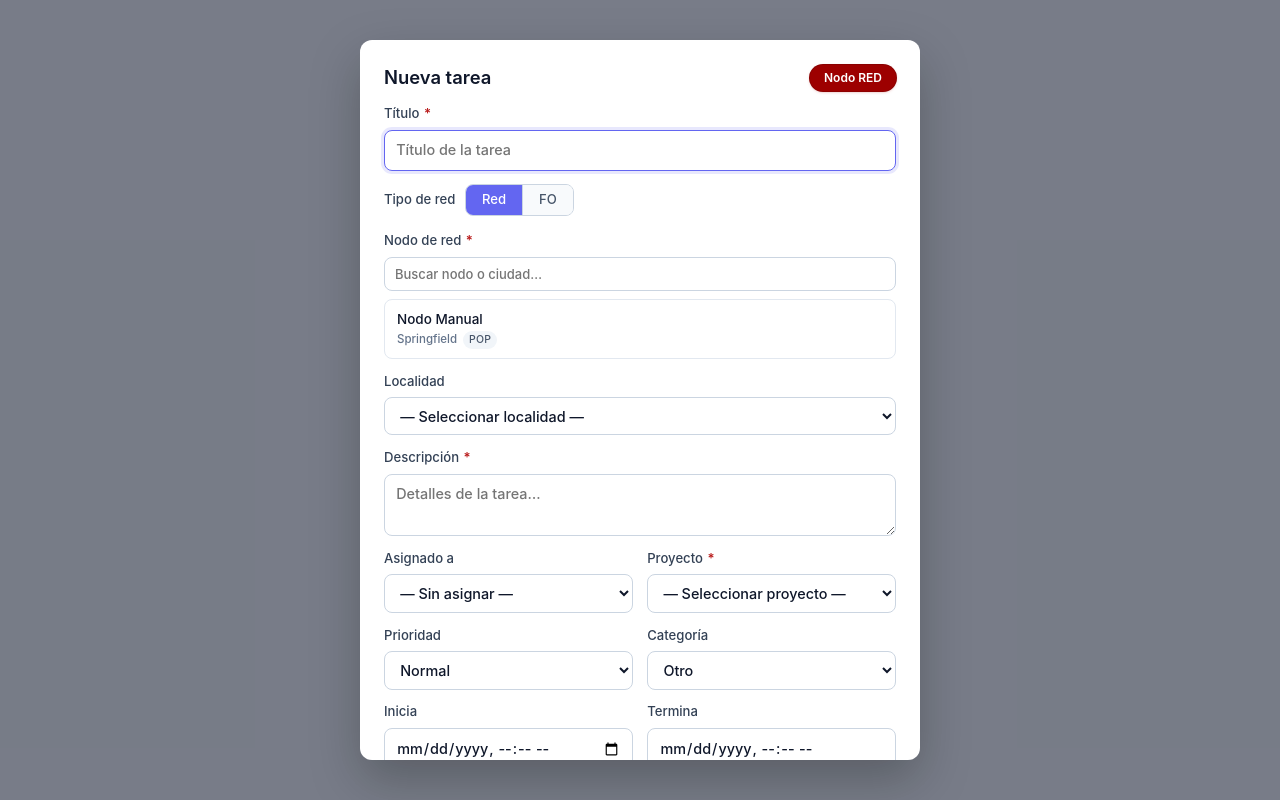
Test: CreateTaskModal — coordinates address fallback in RED mode (#68) › manual address wins over coordinates (does not fall back to lat,lng)
What coordinates should you click on to do the following:
click the text "Nodo Manual"
I would click on:
 (447, 319)
Its box is [397,309,497,329].
(page scrolled)
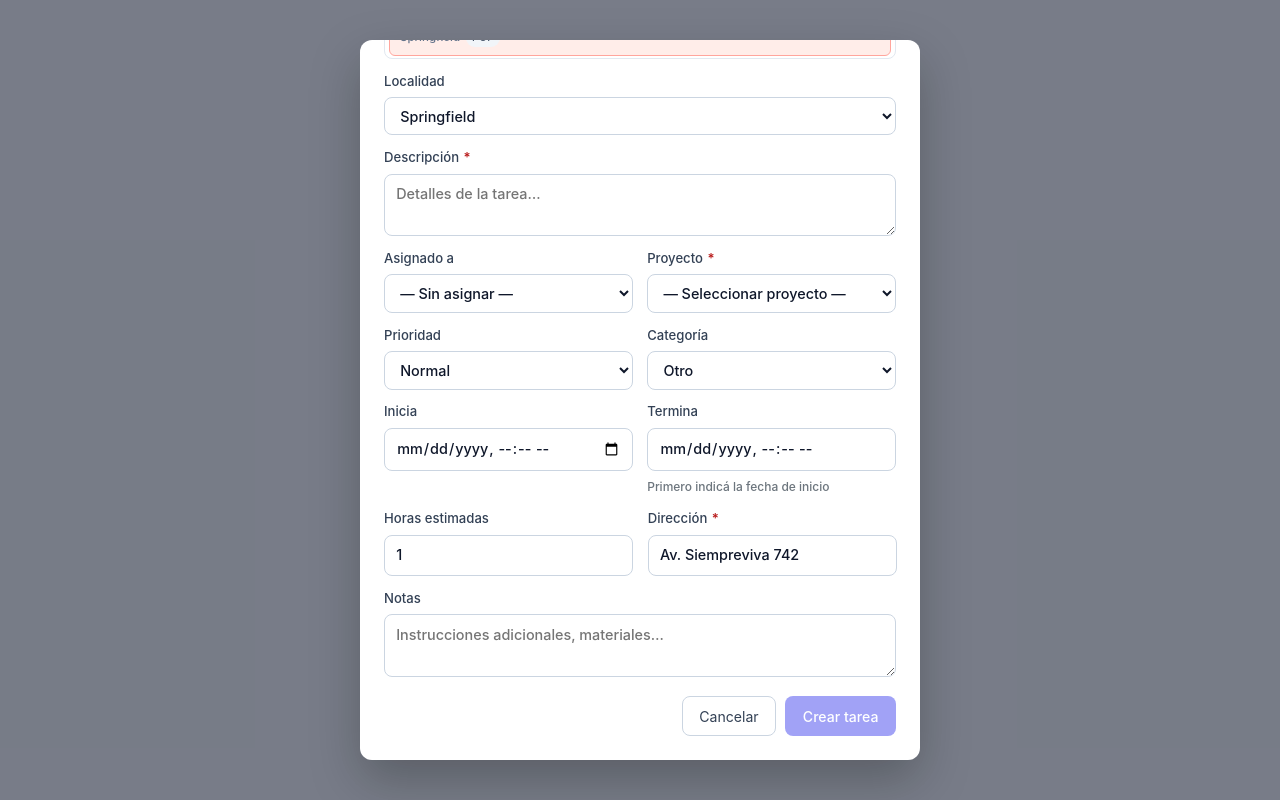
Check: the field with placeholder "Dirección del trabajo" holds "Av. Siempreviva 742", box [648,535,897,576]
